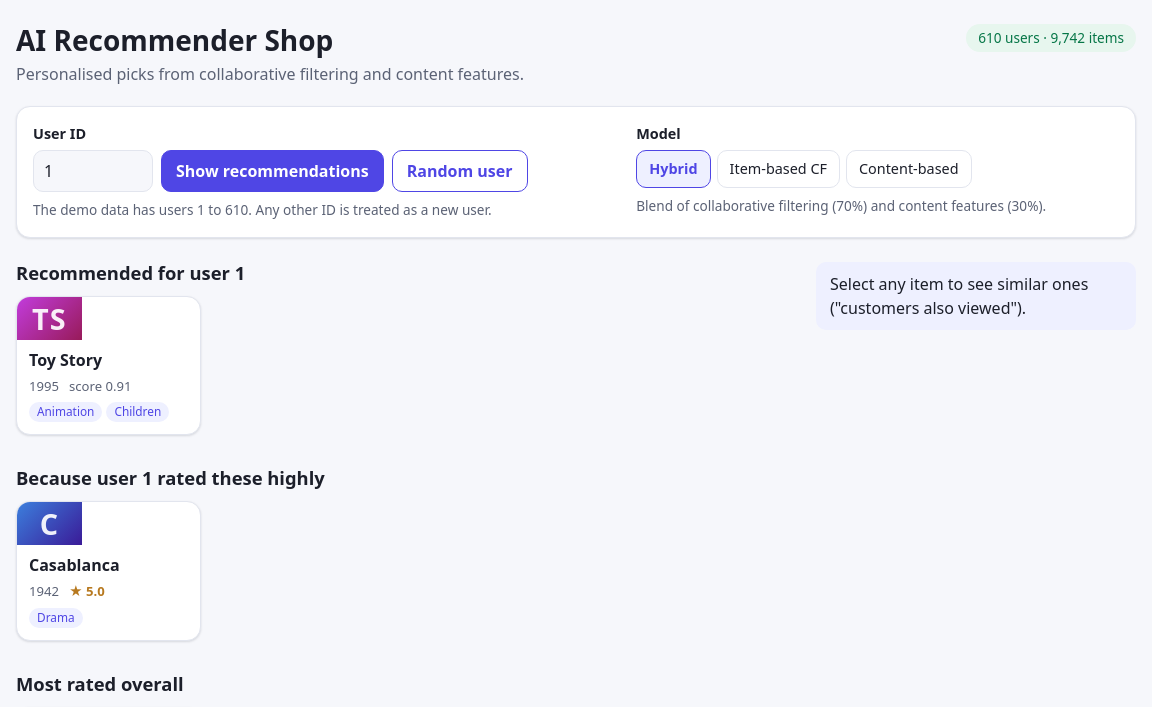
it: switching the model asks the API for that model
Expected: the text "Toy Story" is shown, [29, 349, 102, 371]
Click the radio button labelled "Content-based". click: point(909, 169)
box: [846, 150, 972, 188]
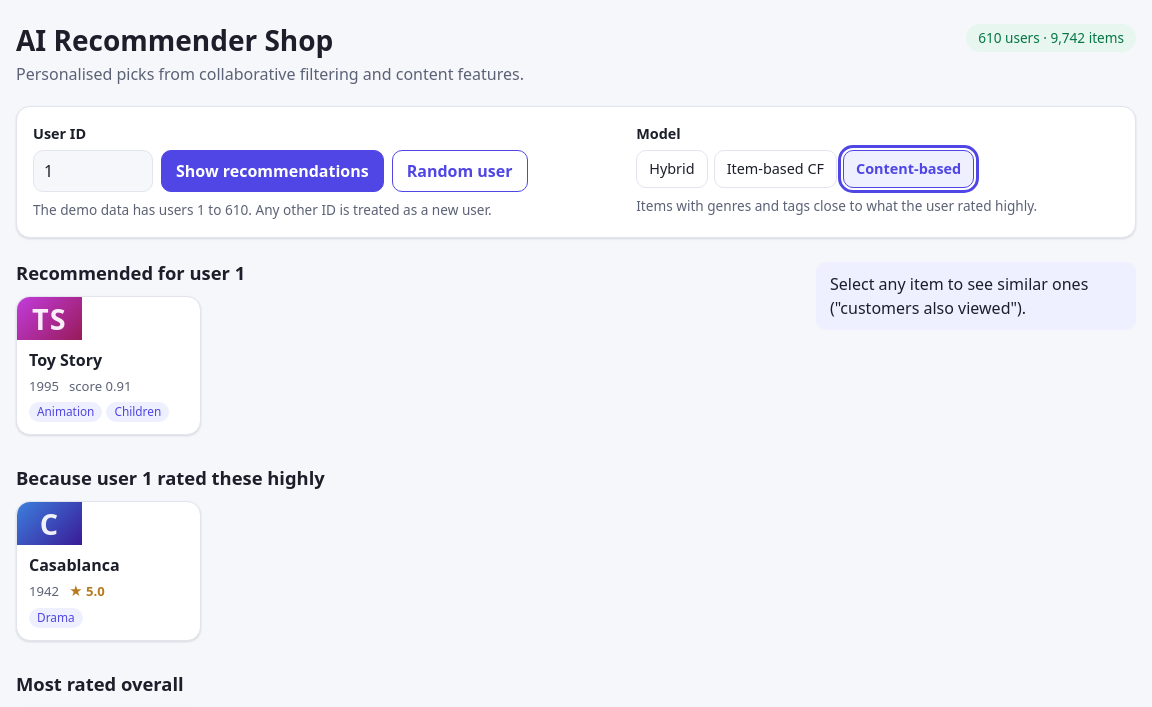
Now the text "genres and tags close" is shown, box [636, 196, 1037, 215]
